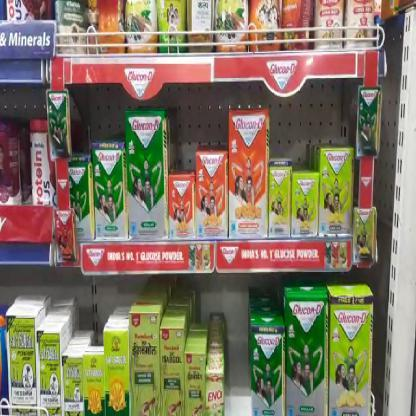Glucon D Nimbu Pani 1-KG: (330, 296, 374, 414), (320, 150, 354, 238)
